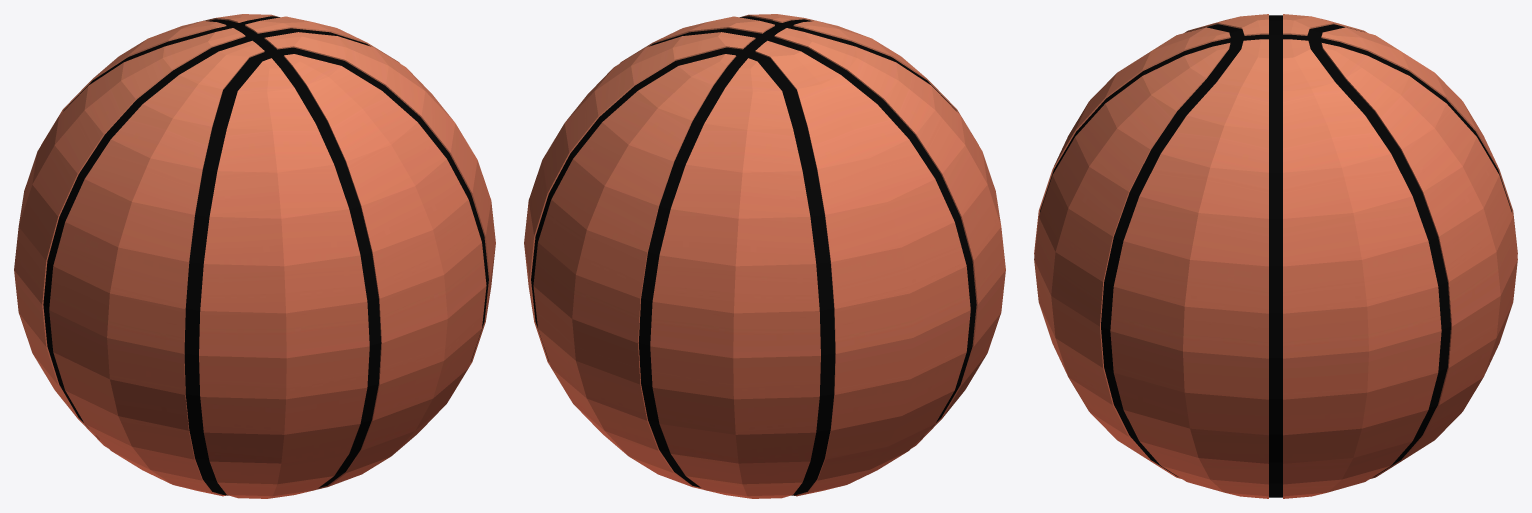
Rendered from basketball_FBX.glb.
3 renders of one model, left to right at view 1: azimuth 30°, elevation 25°; view 2: azimuth 150°, elevation 25°; view 3: azimuth 270°, elevation 25°, orthographic.
Parts seen in each view (by area): view 1: BasketballBall; view 2: BasketballBall; view 3: BasketballBall.
Part boxes in pixels (x1=…): BasketballBall: x1=14, y1=14, x2=495, y2=498; BasketballBall: x1=524, y1=14, x2=1005, y2=498; BasketballBall: x1=1034, y1=14, x2=1517, y2=498.
Bounding box in the file's own units: 0.7499 × 0.7527 × 0.7499.
1 material, 1 textured.
